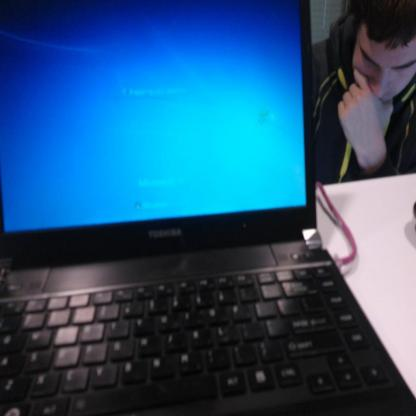board: (0, 5, 416, 416)
